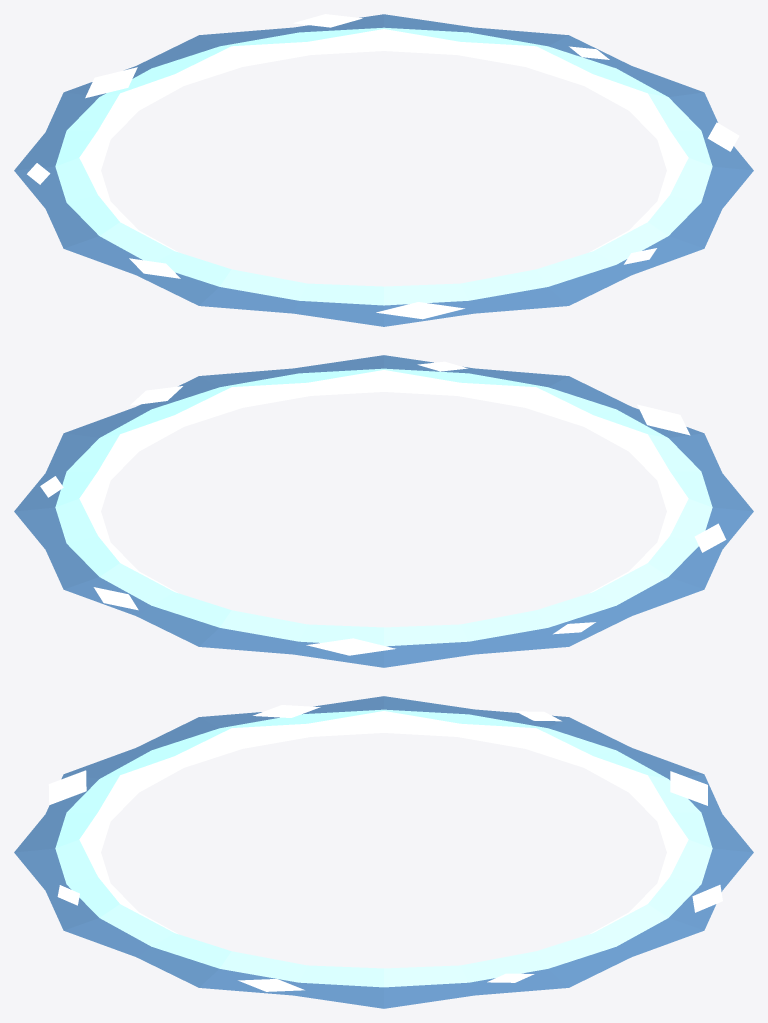
File: prop_tide_floodring.glb
The picture shows the model from 3 angles, top to bottom: view 1: azimuth 30°, elevation 25°; view 2: azimuth 150°, elevation 25°; view 3: azimuth 270°, elevation 25°; orthographic projection.
Parts seen in each view (by area): view 1: prop_tide_floodring; view 2: prop_tide_floodring; view 3: prop_tide_floodring.
Boxes of the visible parts, bbox=[...] form: prop_tide_floodring: bbox=[14, 14, 753, 326]; prop_tide_floodring: bbox=[14, 355, 753, 667]; prop_tide_floodring: bbox=[14, 696, 753, 1008].
Bounding box in the file's own units: 6.8 × 0.13 × 6.8.
